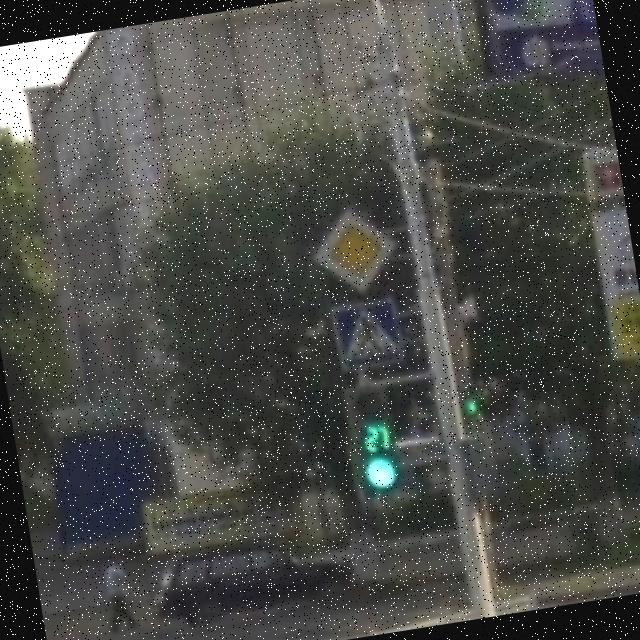Droga z pierwszenstwem: (301, 192, 410, 308)
Przejscie dla pieszych: (324, 294, 409, 376)
